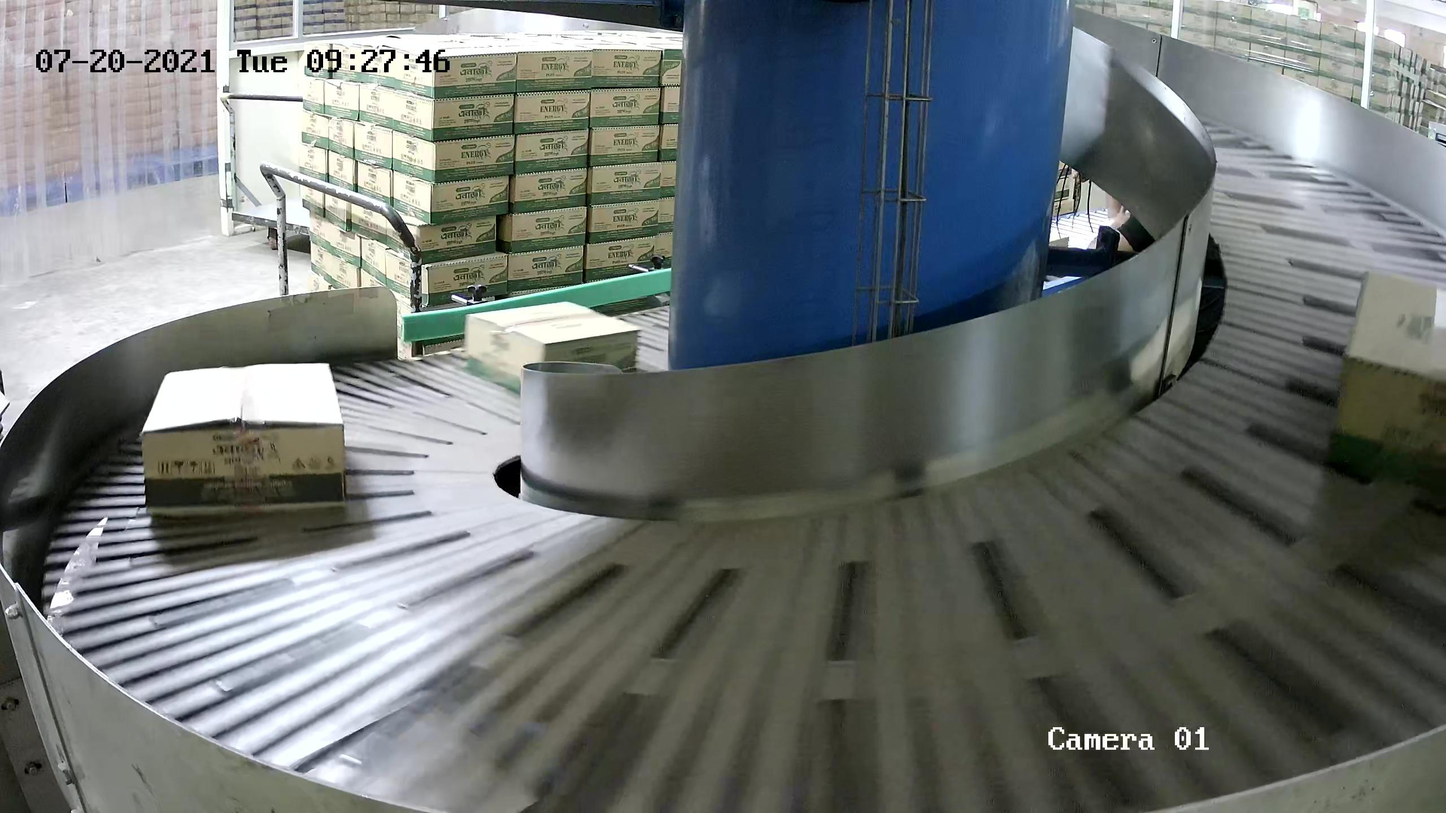Box: (141, 362, 349, 519), (1322, 270, 1446, 512), (465, 301, 638, 396)
